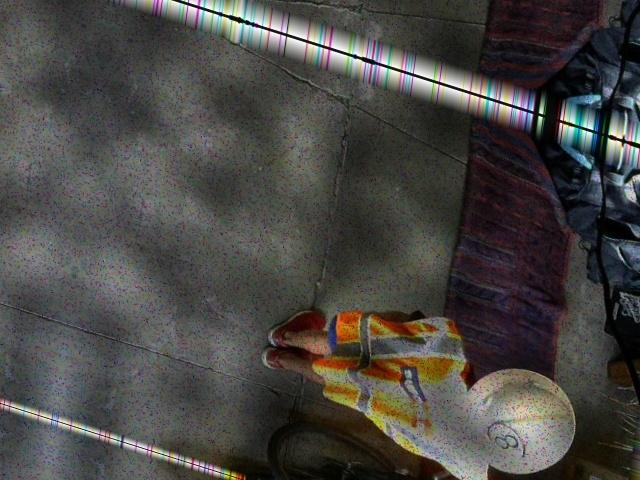eight: (484, 419, 526, 464)
